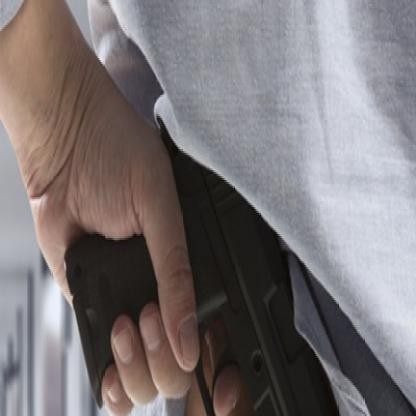gun: (47, 139, 366, 414)
